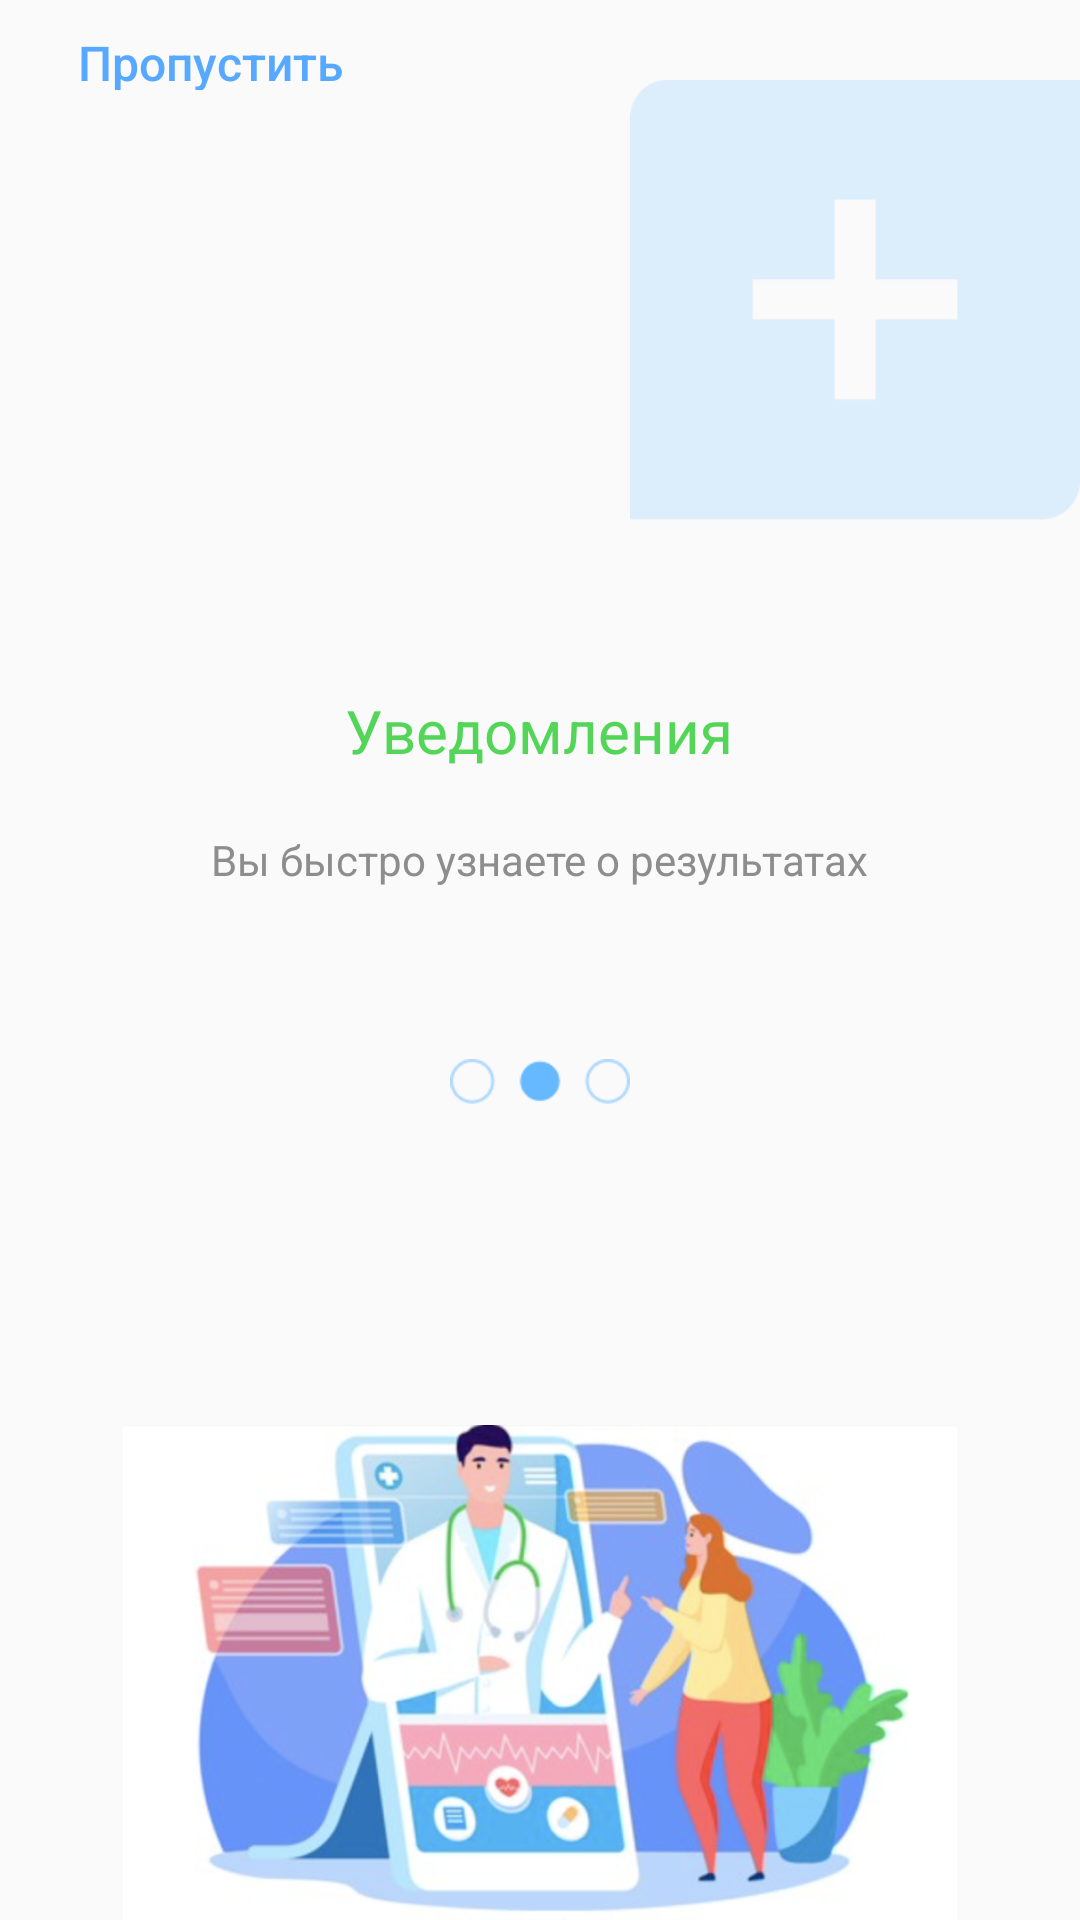

Icon click points for this 1080*1920 phone screenshot, format (x,y):
tochki: (540,1081)
